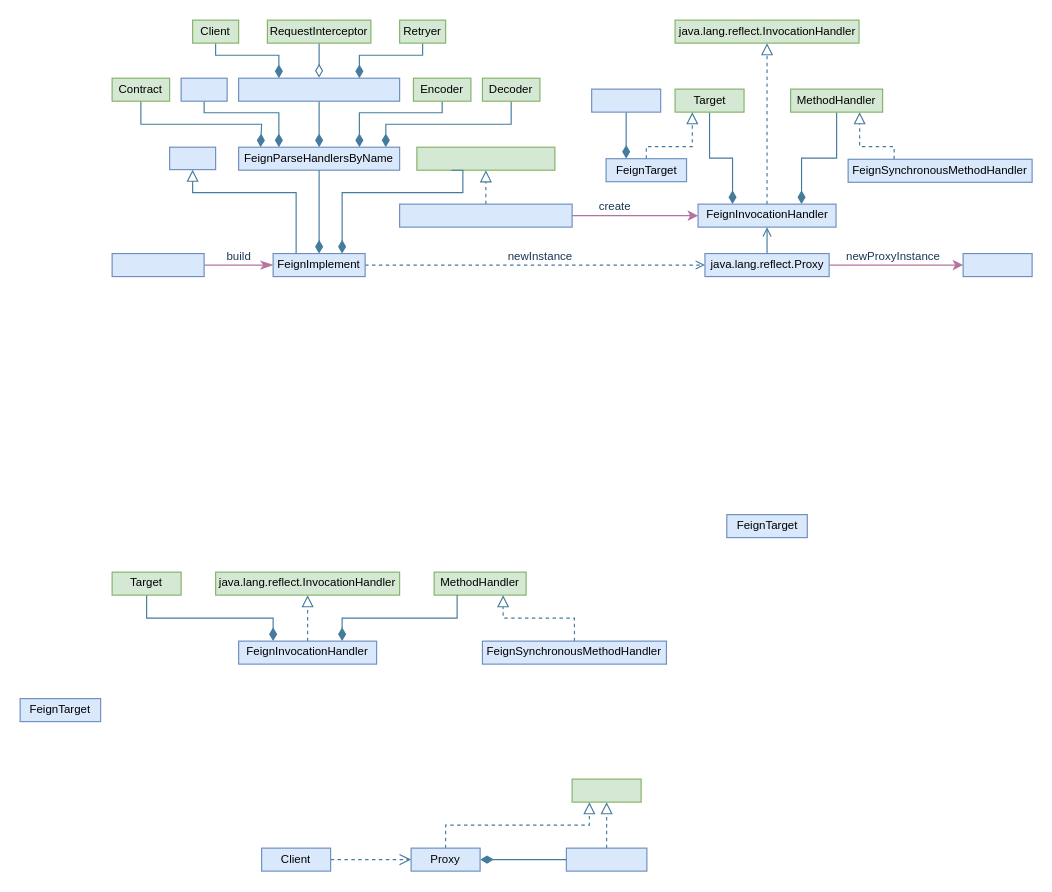
Some shapes in this 1052 by 892 pixel diagram are drawn without their labels. Here are the shapes that lost their labels. From the top down, the box of each, then its label:
(180, 77, 227, 101): Options
(237, 77, 400, 101): FeignMethodHandlerFactory
(591, 88, 661, 112): Class<T>
(168, 146, 216, 170): Feign
(416, 146, 555, 170): InvocationHandlerFactory
(398, 203, 572, 227): FeignInvocationHandlerFactory
(111, 252, 204, 277): FeignBuilder
(962, 252, 1032, 277): <T> proxy
(571, 778, 641, 802): Subject
(565, 847, 647, 871): RealSubject
